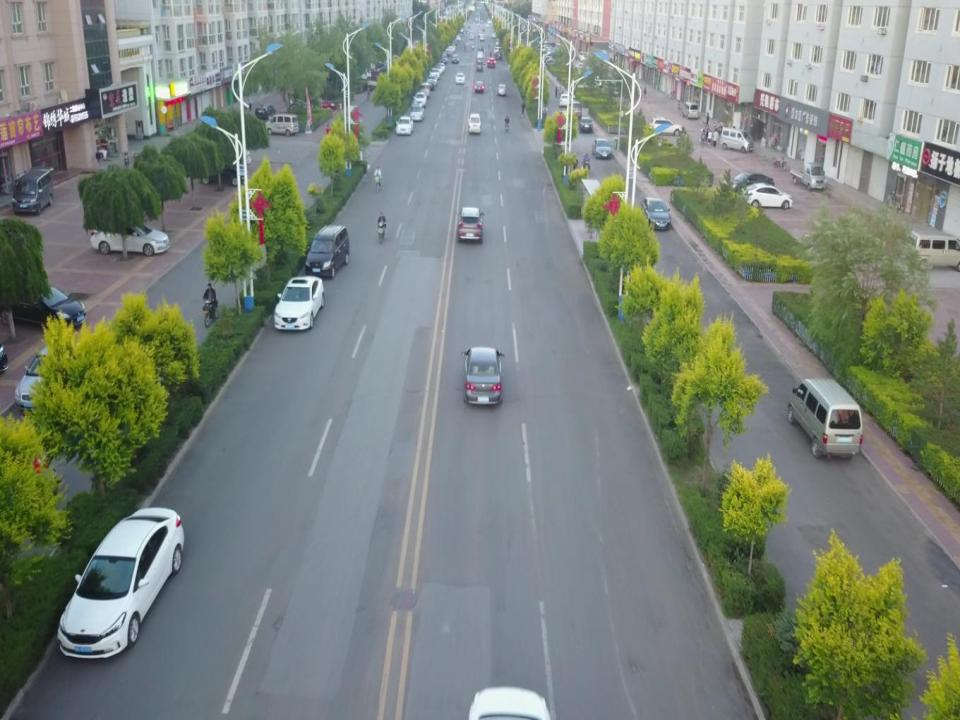car: (58, 508, 186, 664), (15, 334, 87, 413), (1, 279, 87, 332), (90, 218, 169, 258), (274, 275, 322, 331), (462, 345, 505, 405), (741, 183, 793, 210), (196, 161, 249, 185), (723, 172, 775, 196), (639, 198, 673, 228), (650, 116, 683, 136), (592, 139, 612, 159), (395, 115, 413, 134), (309, 100, 335, 112), (255, 105, 276, 118), (410, 103, 424, 121), (579, 118, 592, 132), (414, 92, 427, 106), (559, 94, 570, 107), (474, 81, 484, 92), (425, 79, 436, 89), (427, 75, 437, 86), (430, 69, 440, 80), (456, 72, 464, 84), (436, 63, 445, 73), (475, 62, 484, 72), (498, 84, 506, 95), (433, 67, 442, 74)
truck: (790, 163, 826, 192)
van: (787, 376, 864, 462), (305, 225, 350, 279), (908, 229, 960, 273), (14, 168, 54, 216), (456, 206, 484, 243), (721, 126, 753, 153), (266, 114, 299, 135), (468, 113, 482, 135), (682, 100, 699, 118), (569, 102, 581, 120), (420, 84, 430, 98)
